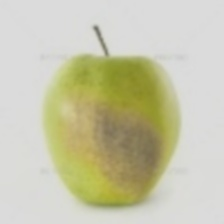apple: (31, 27, 198, 170)
